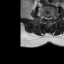CCS_severe_stenosis: (47, 15, 49, 23)
LFS_stenosis: (51, 15, 53, 20)
LLS_stenosis: (49, 15, 51, 21)
RFS_normal: (43, 15, 45, 20)
RLS_normal: (45, 15, 47, 21)
